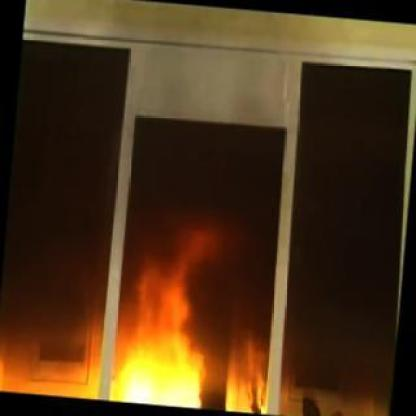Fire: (110, 217, 218, 408), (226, 314, 273, 415)
